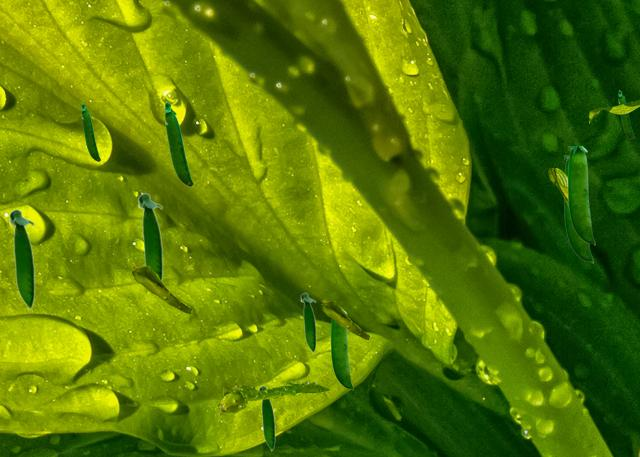pea: (564, 155, 592, 262), (8, 208, 34, 311), (568, 146, 594, 244), (164, 101, 192, 185), (137, 192, 162, 280), (331, 310, 352, 389), (258, 385, 274, 451), (81, 103, 99, 160), (300, 292, 315, 353), (618, 90, 633, 138)
